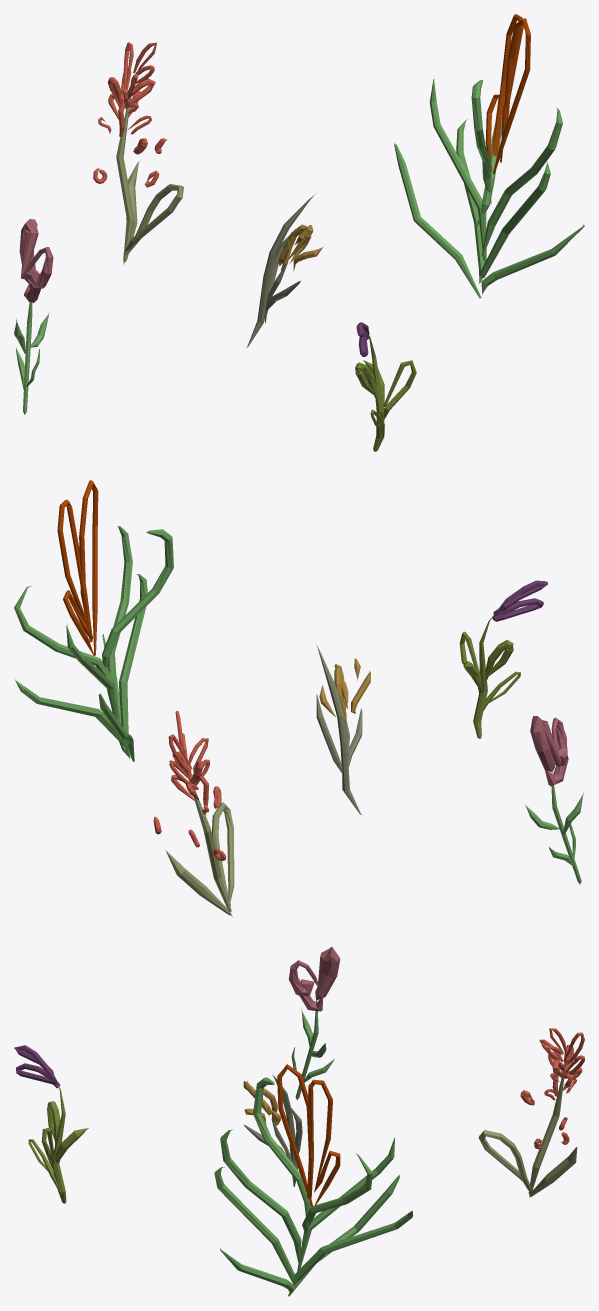
Rendered from flowers_00.fbx.
3 views of the same model, one above another, from view 1: azimuth 30°, elevation 25°; view 2: azimuth 150°, elevation 25°; view 3: azimuth 270°, elevation 25° (orthographic). The views are drawn at different scales.
Visible parts, largest first — view 1: NewLayer0; view 2: NewLayer0; view 3: NewLayer0.
Boxes of the visible parts, x1,y1,x2,y2 form: NewLayer0: [14, 14, 584, 451]; NewLayer0: [14, 480, 583, 916]; NewLayer0: [14, 947, 584, 1296].
Bounding box in the file's own units: 4.96 × 2.49 × 4.94.
